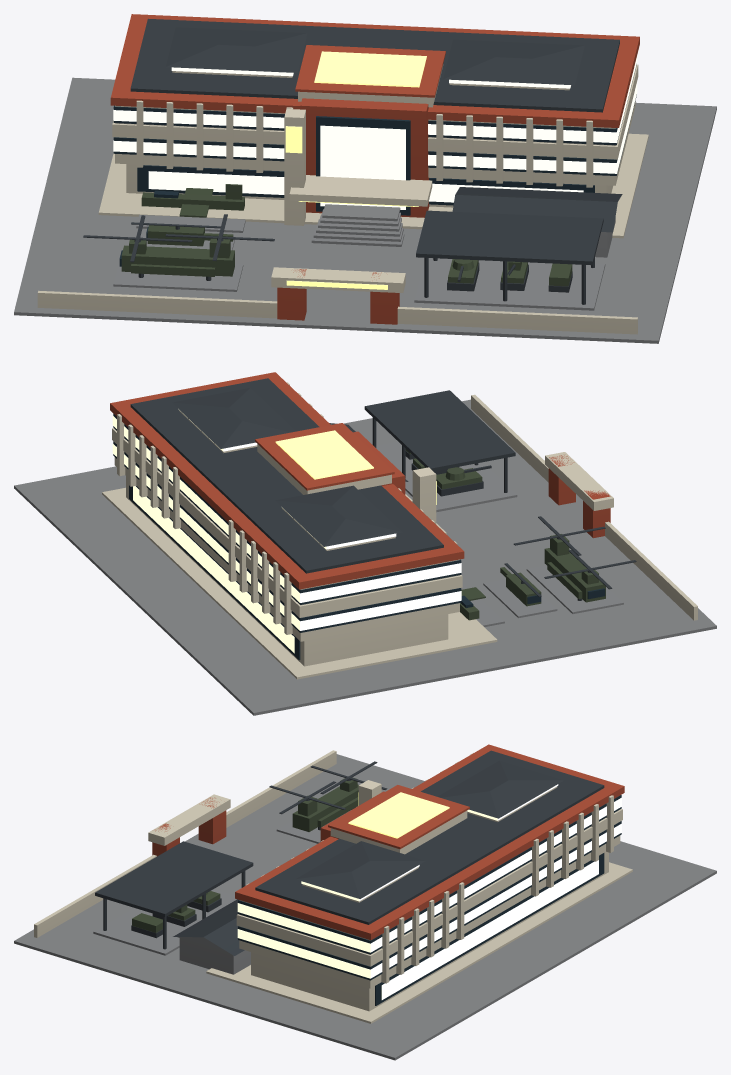
The model's file is bao_tang_chung_tich.glb.
3 renders of one model, top to bottom at view 1: azimuth 30°, elevation 25°; view 2: azimuth 150°, elevation 25°; view 3: azimuth 270°, elevation 25°, orthographic. The views are drawn at different scales.
Visible parts, largest first — view 1: bao_tang_chung_tich; view 2: bao_tang_chung_tich; view 3: bao_tang_chung_tich.
Boxes of the visible parts, left/top/right/bottom form: bao_tang_chung_tich: left=14, top=14, right=716, bottom=343; bao_tang_chung_tich: left=14, top=372, right=716, bottom=715; bao_tang_chung_tich: left=14, top=744, right=716, bottom=1060.
Bounding box in the file's own units: 113 × 18 × 110.
